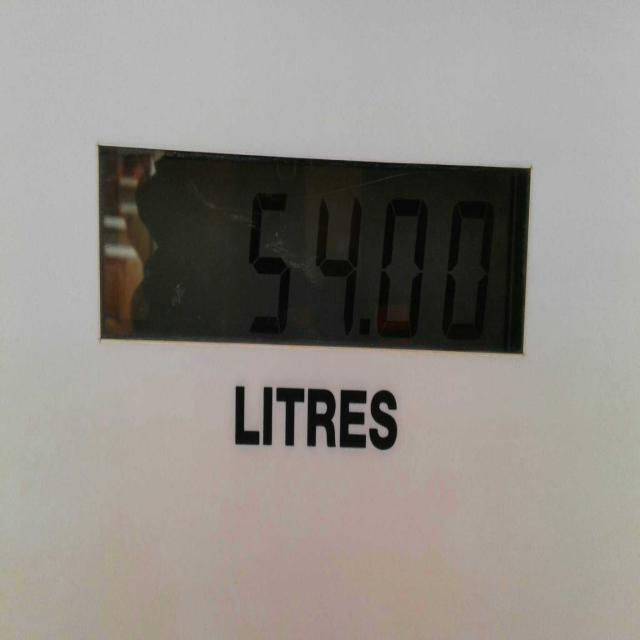.: (354, 316, 375, 354)
0: (436, 182, 512, 345), (369, 199, 438, 336)
4: (312, 186, 366, 343)
5: (238, 188, 302, 330)
